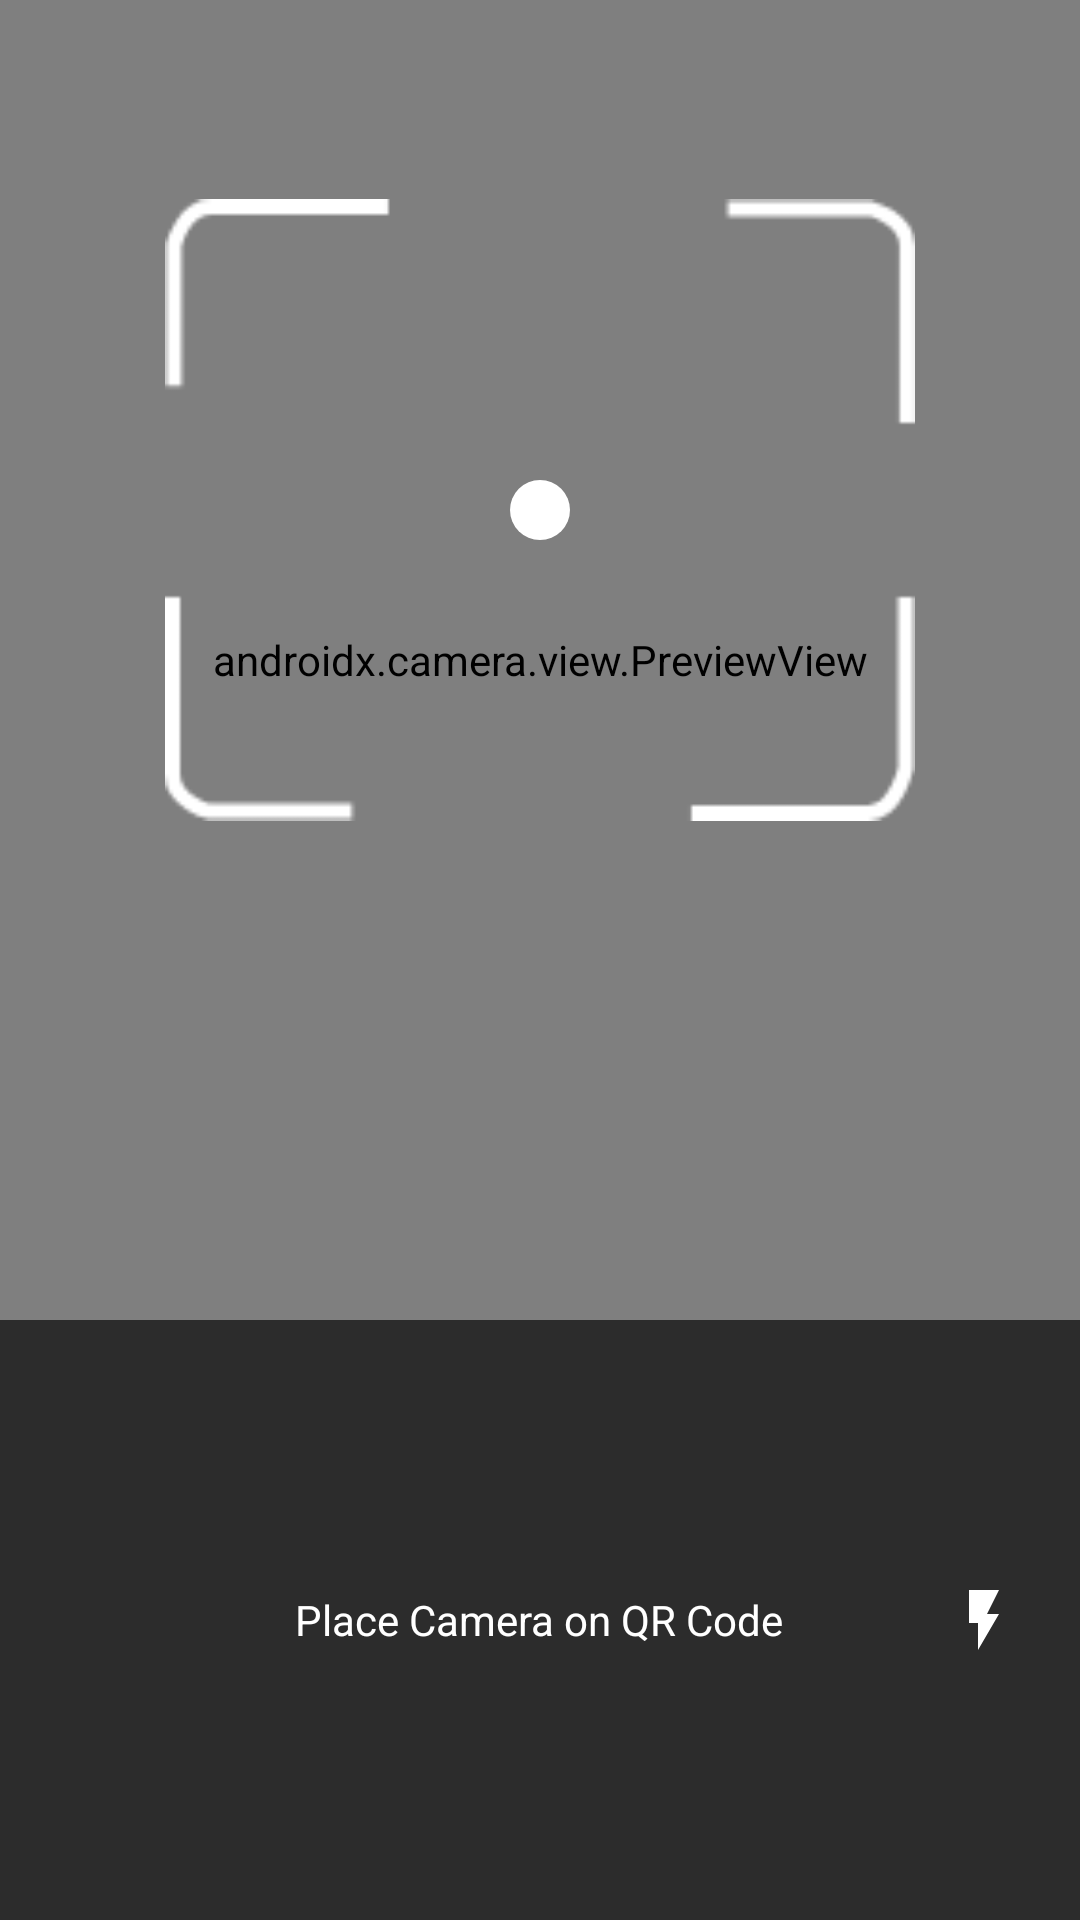

Icon click points for this 1080w x 1920h phone screenshot, format point (x, y):
flash on: point (984, 1620)
